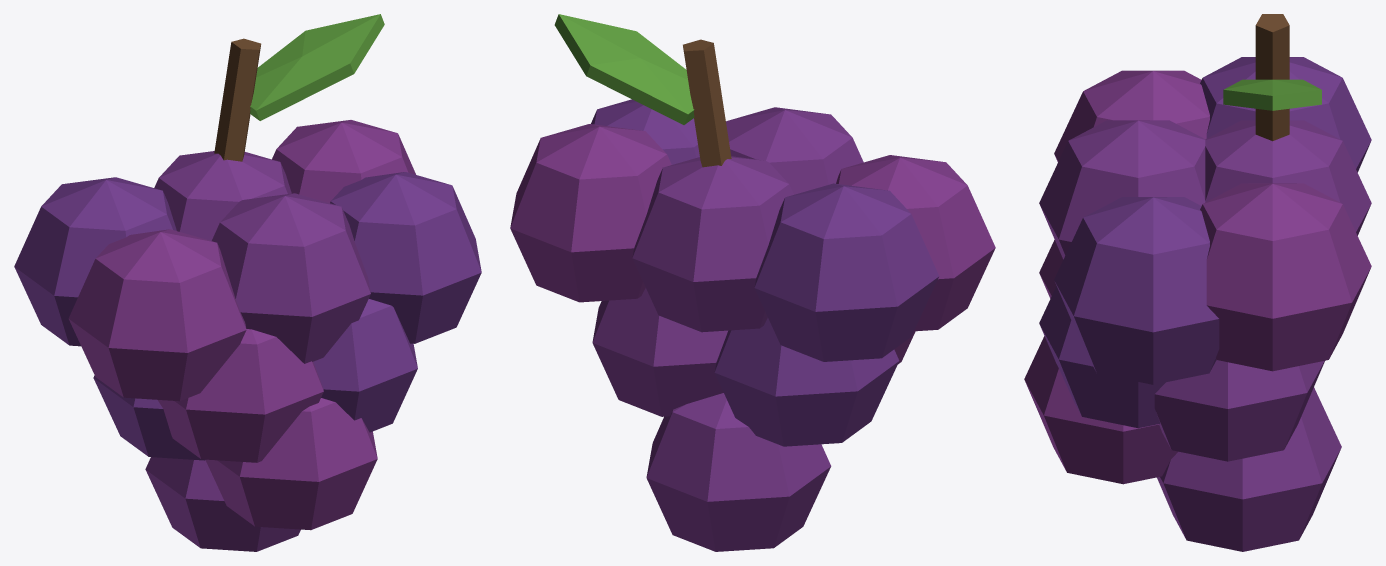
Rendered from Food_Grapes.obj.
The picture shows the model from 3 angles, left to right: view 1: azimuth 30°, elevation 25°; view 2: azimuth 150°, elevation 25°; view 3: azimuth 270°, elevation 25°; orthographic projection. The views are drawn at different scales.
Size of the model in its own units: 1.65 by 2 by 1.16.
